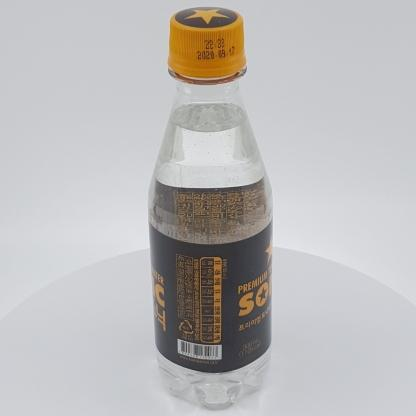----------------300ML: (147, 6, 273, 410)
